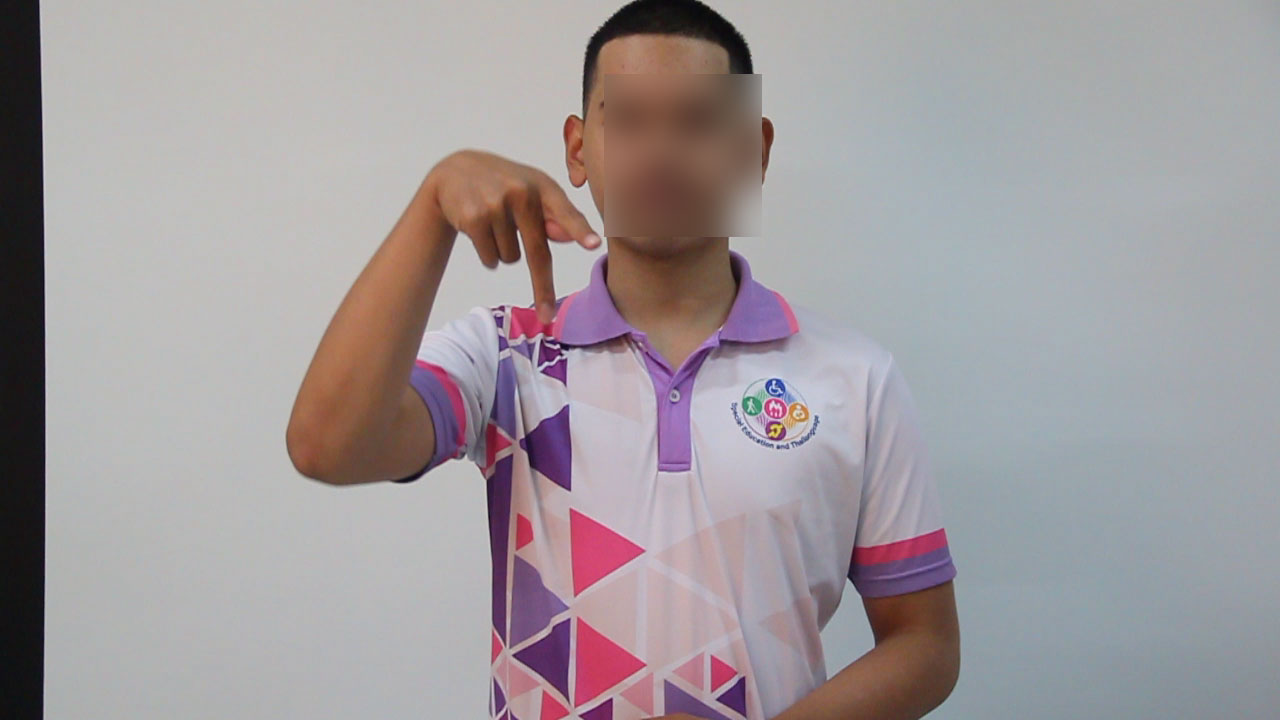por: (406, 132, 609, 341)
